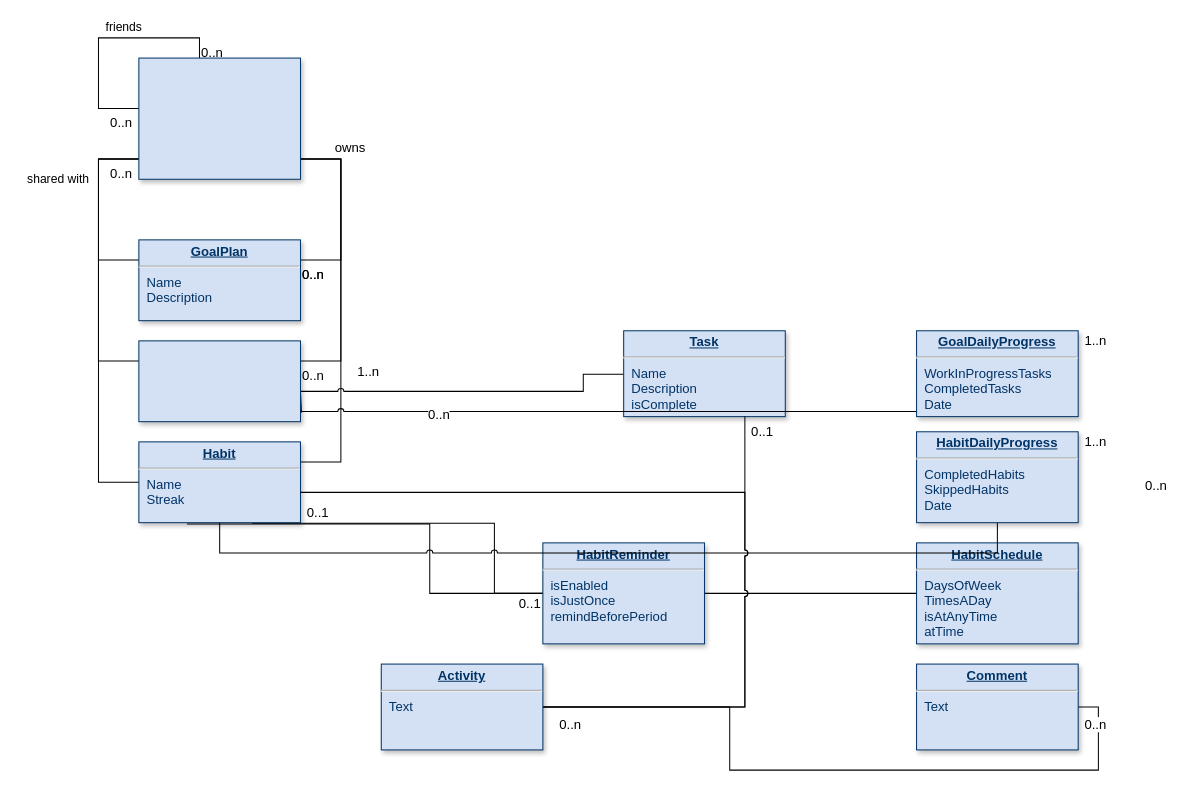
The diagram is 1184 pixels wide and 789 high, and some of its shapes have lost their labels. The shapes that lost their labels are listed below. From the top down, each one's centre as x and y in pixels, then its label:
At point 220,119: "User Username Name Surname Email Password".
At point 220,382: "Goal Name Progess".
